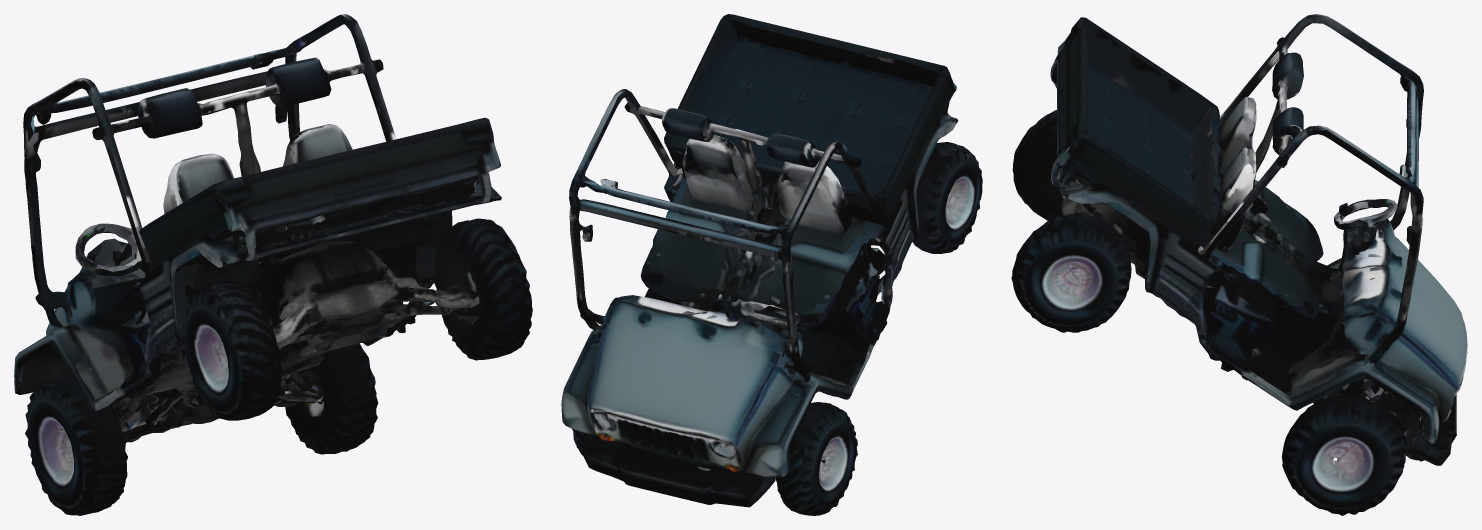
File: sidebyside_utv.glb
3 renders of one model, left to right at view 1: azimuth 30°, elevation 25°; view 2: azimuth 150°, elevation 25°; view 3: azimuth 270°, elevation 25°, orthographic. The views are drawn at different scales.
Visible parts, largest first — view 1: Object_2; view 2: Object_2; view 3: Object_2.
Boxes of the visible parts, x1,y1,x2,y2 form: Object_2: (14,14,532,515); Object_2: (561,14,982,515); Object_2: (1011,14,1467,515).
Size of the model in its own units: 1.13 by 1.62 by 1.72.
Materials: 1 (1 with a texture image).
